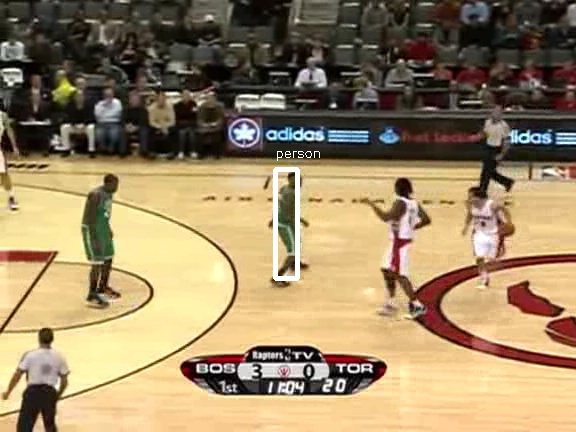person: (272, 182, 306, 263), (271, 182, 305, 263), (273, 182, 307, 263), (272, 181, 306, 262), (272, 183, 306, 264)
target_negative: (172, 182, 506, 414), (365, 8, 512, 309), (190, 219, 406, 349), (422, 289, 489, 404), (408, 193, 416, 311), (386, 244, 414, 277)
